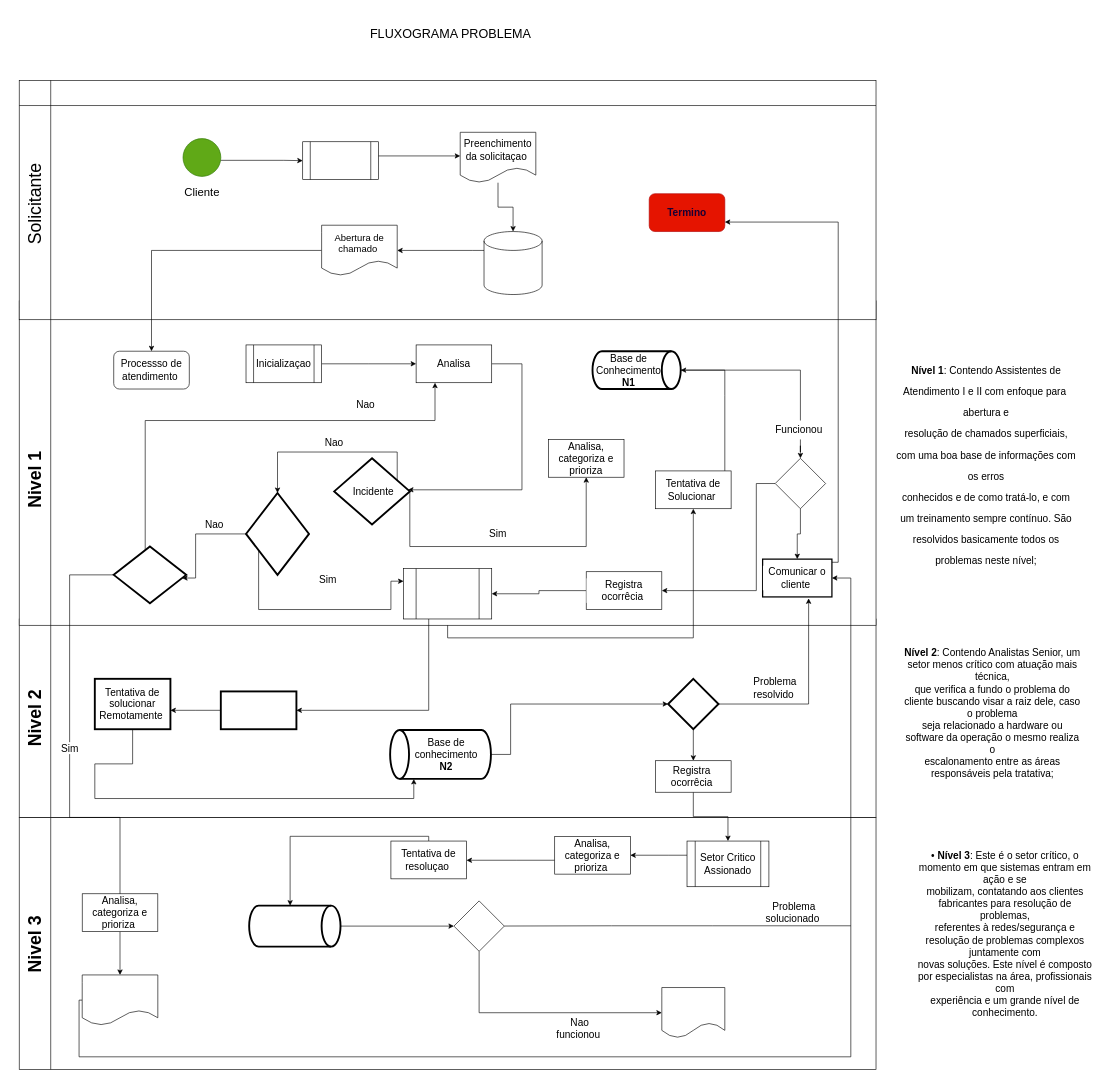
Image size: 1108x1080. Some labels were removed from this diagram. The shapes that lost their labels are listed below. From the top down, each one's centre as x and y in pixels, then its label:
At point 340,160: "Acessar a plataforma de suporte".
At point 512,263: "Cadastra".
At point 277,534: "Problema".
At point 149,574: "Requisição".
At point 447,593: "Encaminhamento para area tecnica".
At point 258,710: "Analista Senior Analisa".
At point 294,925: "Base de conhecimento N3".
At point 120,999: "Abertura de Requisiçao".
At point 693,1012: "Criar uma GMUD".
